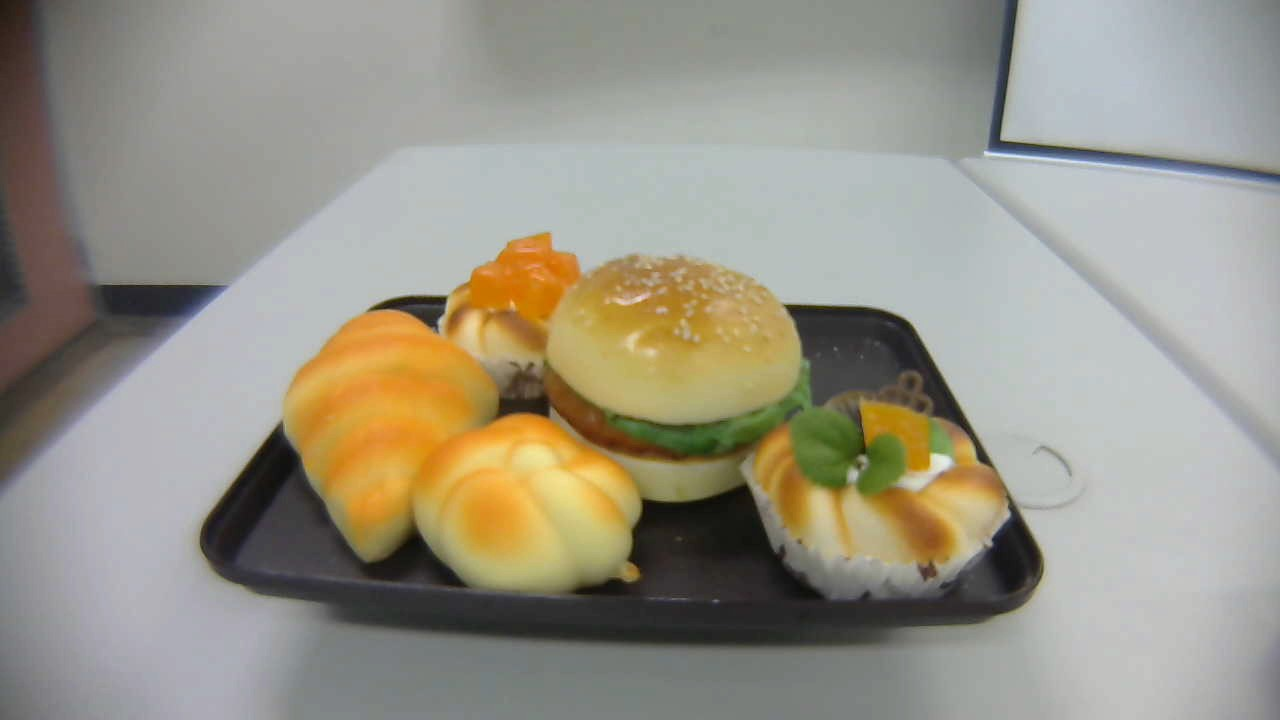croissant: (283, 309, 499, 559)
fruit tart: (744, 369, 1011, 607)
hamburger: (543, 251, 811, 503)
mango tart: (436, 231, 603, 403)
twist bread: (411, 412, 642, 595)
